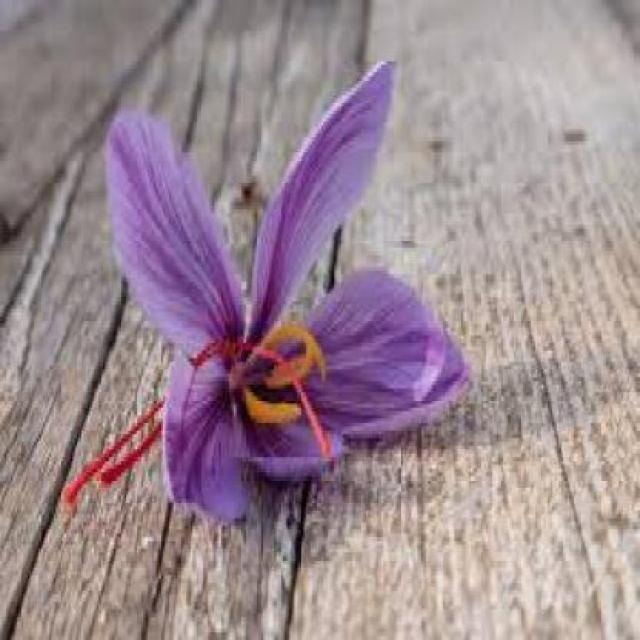Flower: (104, 66, 476, 520)
stigma: (56, 337, 242, 512), (91, 344, 239, 494), (245, 344, 341, 462)
